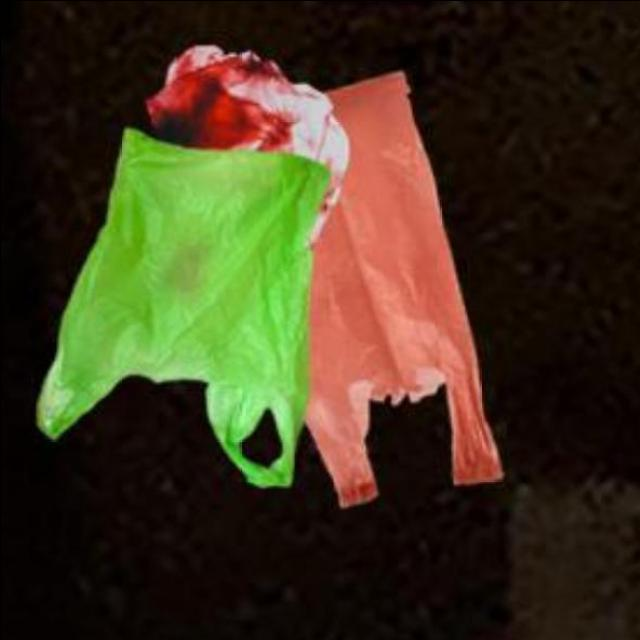plastik: (37, 128, 328, 486), (305, 71, 502, 506), (145, 44, 348, 231)
